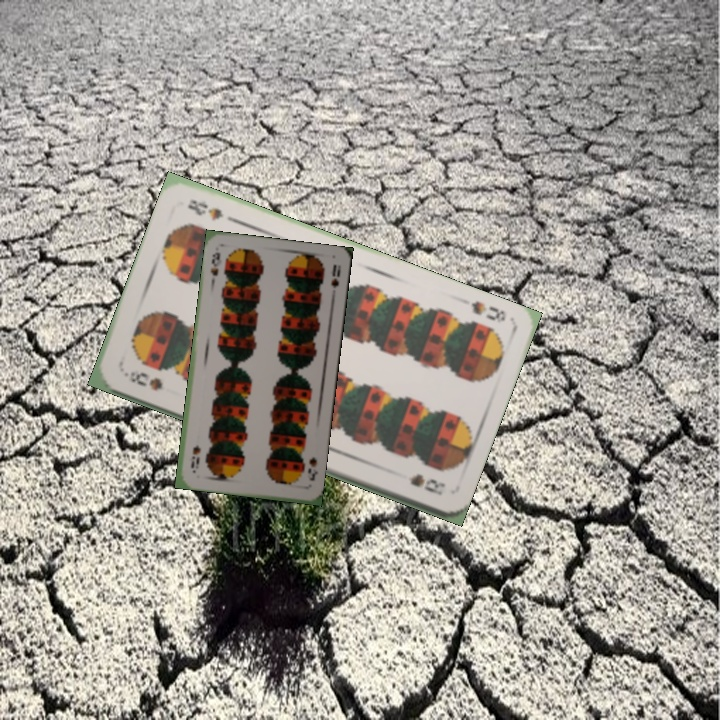S8: (119, 365, 166, 393), (467, 296, 509, 324), (207, 248, 224, 286), (304, 453, 320, 483)
